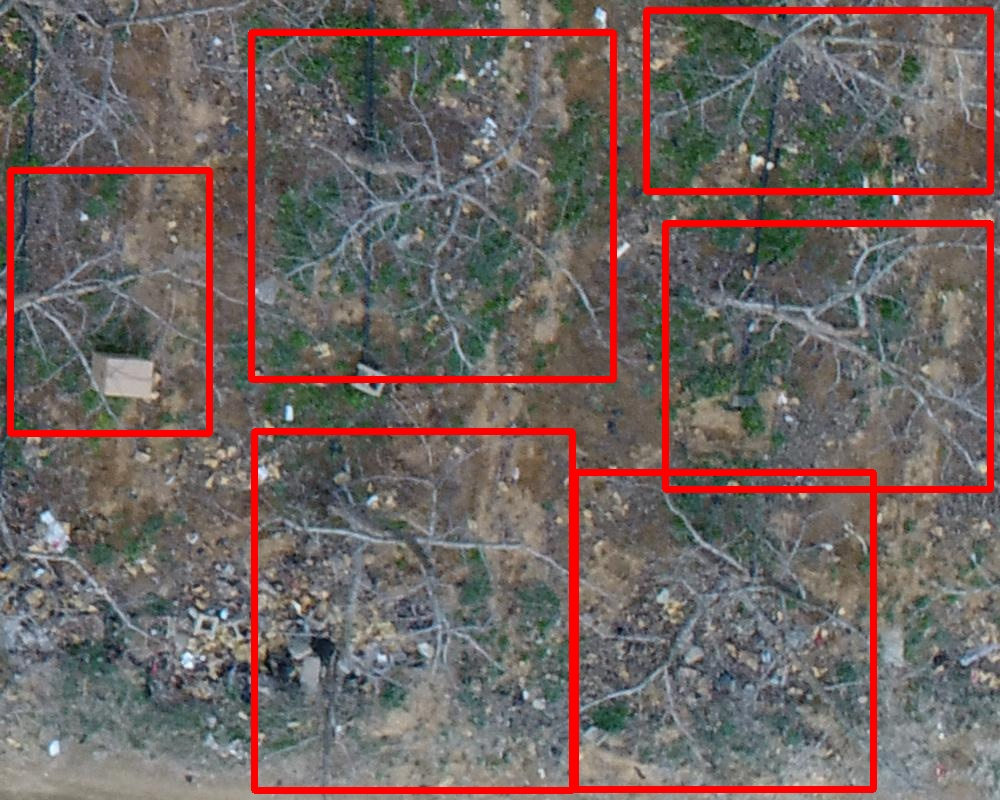apple: (251, 32, 613, 379), (254, 431, 572, 790), (575, 472, 873, 789), (665, 223, 990, 489), (646, 10, 990, 191), (10, 170, 209, 433)
